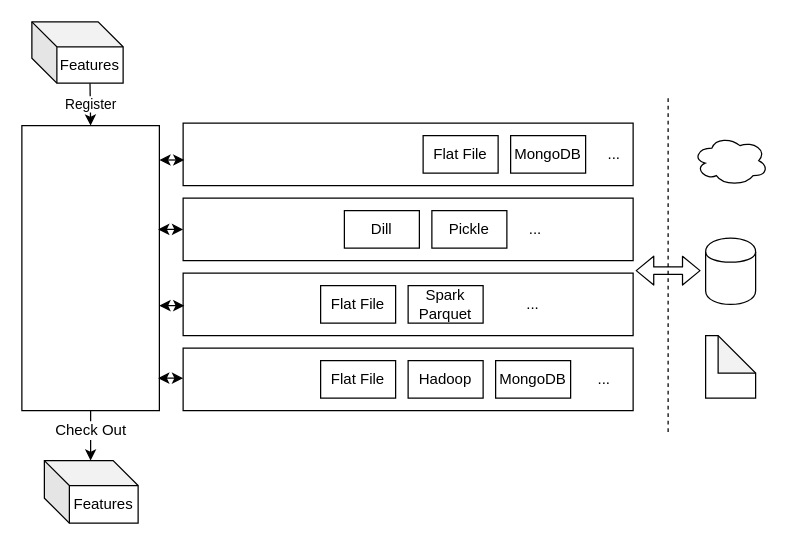
Image size: 790x545. Some labels were removed from this diagram. The shapes that lost their labels are listed below. From the top down, each one's box as (x1, y1, x2, y2) in pixels, then its label:
(182, 122, 633, 186): Meta Data Management Providers
(182, 197, 633, 261): Serialization Providers
(21, 124, 159, 411): Feature Store Core APIs
(182, 272, 633, 336): Cache Providers
(182, 347, 633, 411): Persister Providers
